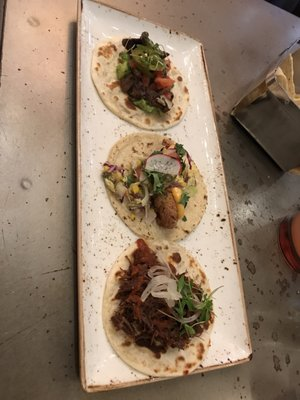sandwich: (102, 238, 216, 377), (101, 133, 208, 240), (91, 32, 190, 131)
